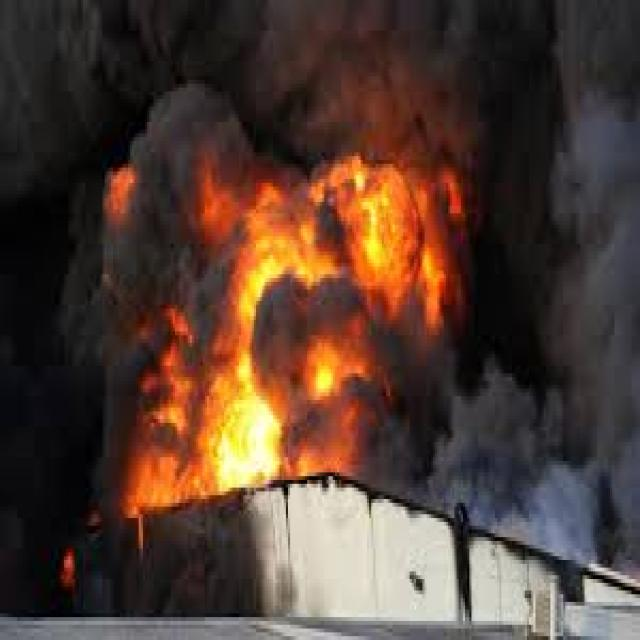Fire: (188, 298, 320, 514)
Smoke: (495, 13, 640, 582), (0, 6, 102, 457)
